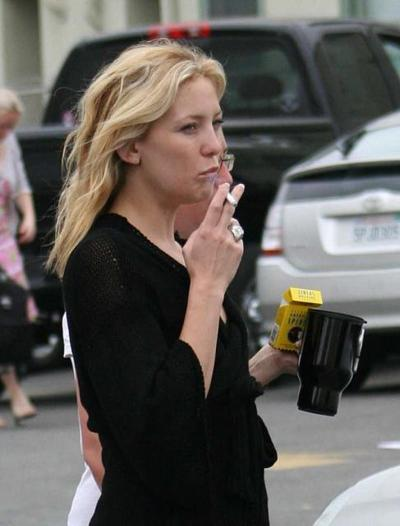person: (50, 39, 303, 526)
